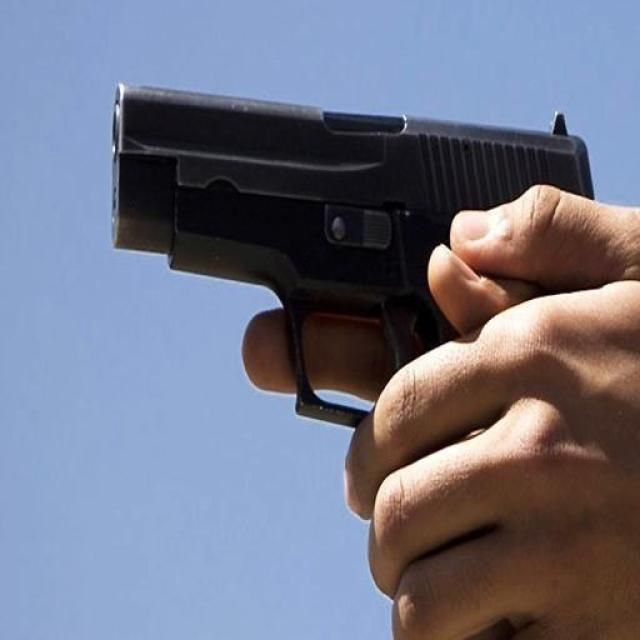pistol: (112, 65, 600, 620)
